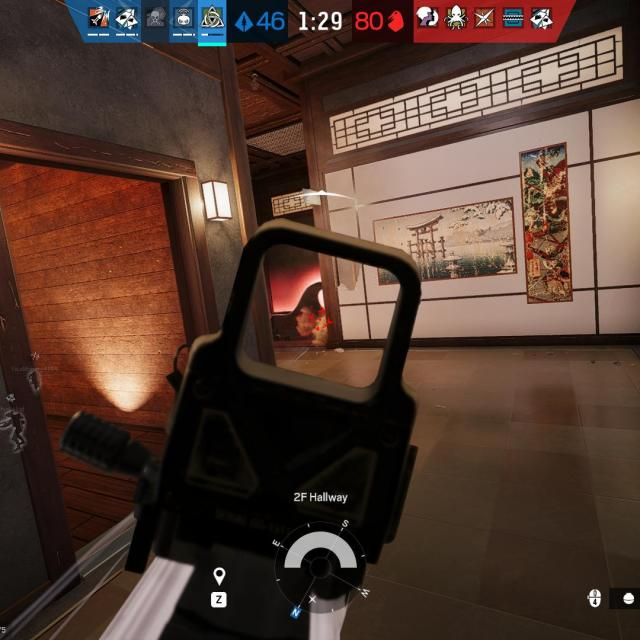Friend_label: (12, 351, 58, 374), (0, 393, 26, 413)
